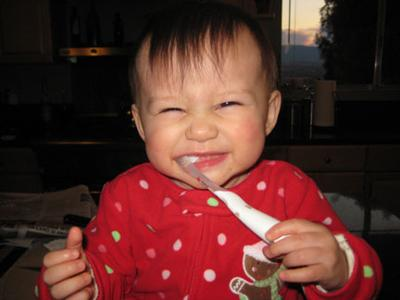person: (38, 4, 387, 300)
